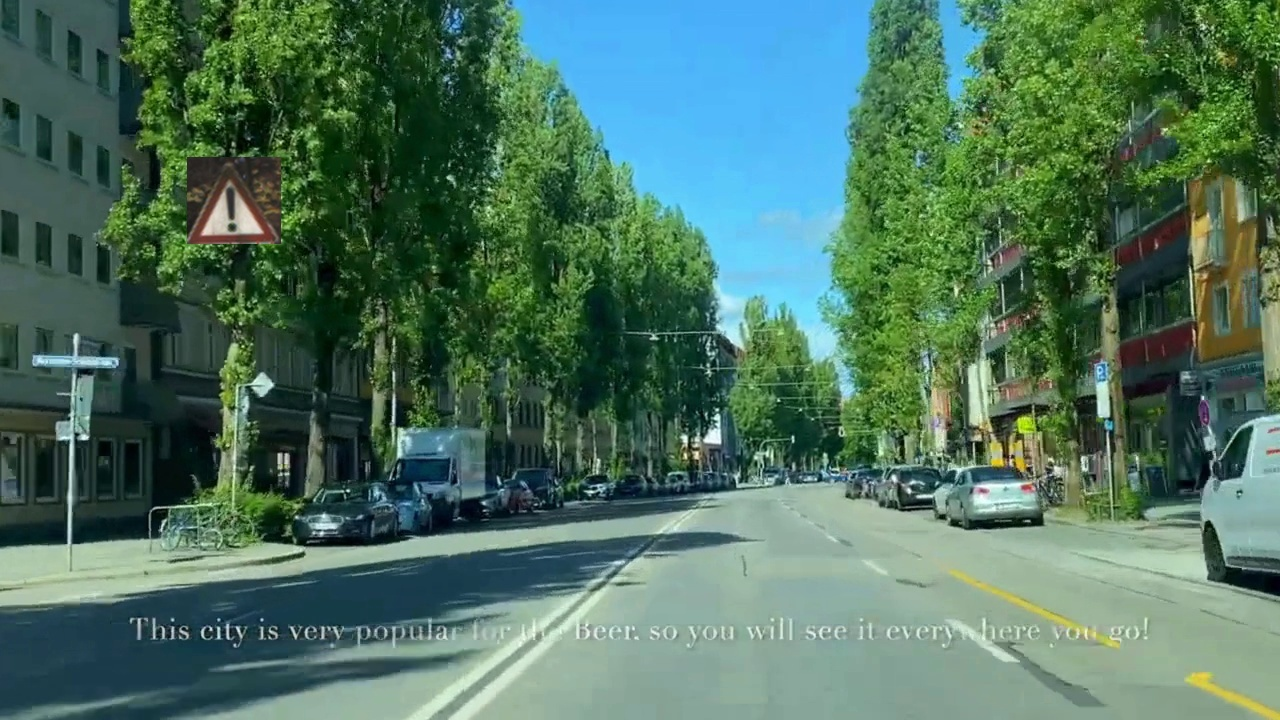Caution: (187, 157, 281, 244)
